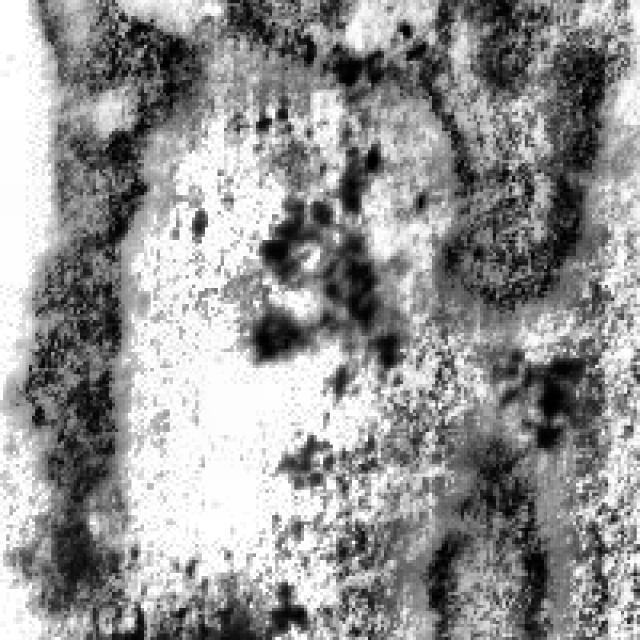Patches: (237, 132, 413, 380), (490, 342, 580, 454)
Scratches: (0, 0, 189, 496), (426, 0, 614, 314), (416, 432, 563, 637), (195, 0, 368, 77)
